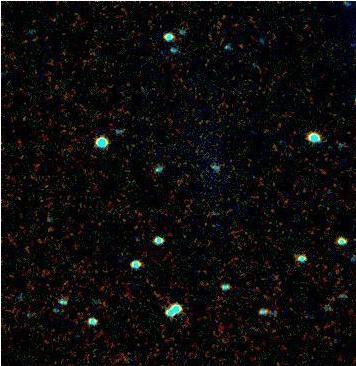star: (225, 34, 255, 64)
